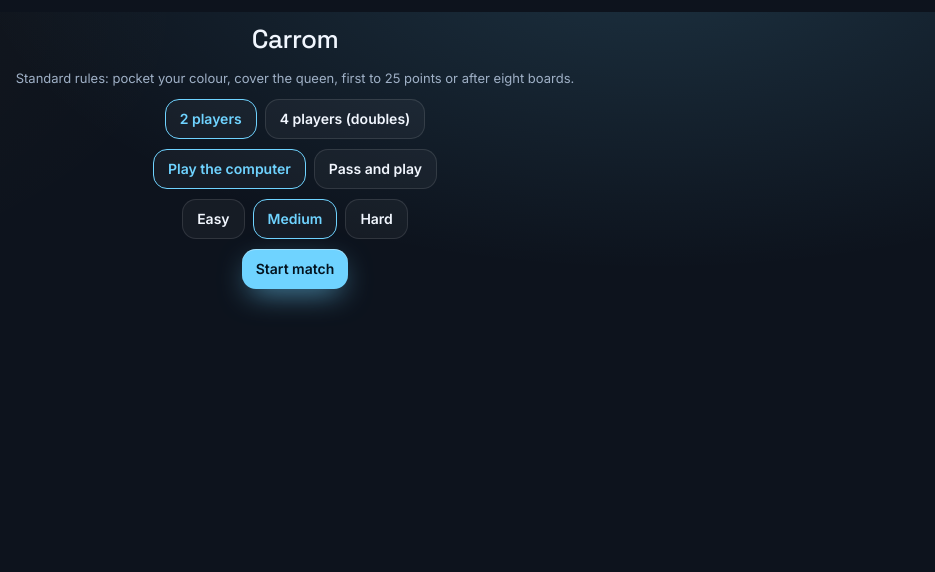
Carrom › passes the turn after a miss and keeps it after an own coin
Step 1. Click the button "Pass and play" → [375, 168], box [314,148,437,188]
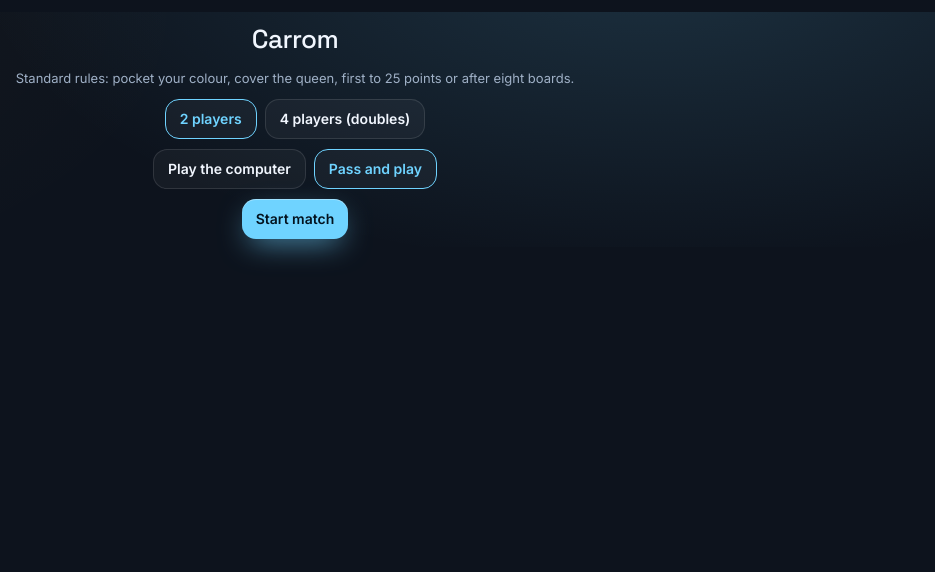
Step 2. Click the button "Start match" → [295, 218], box [242,198,348,238]
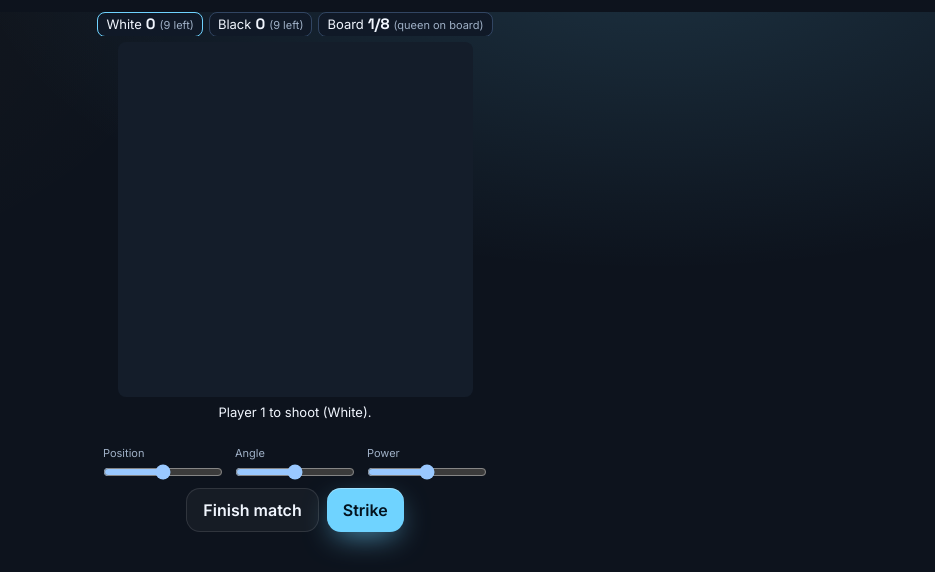
Expected: the message shows "Player 1 to shoot", [218,404,371,420]
Step 3. Click the button "Strike" → [365, 510], box [327,488,404,532]
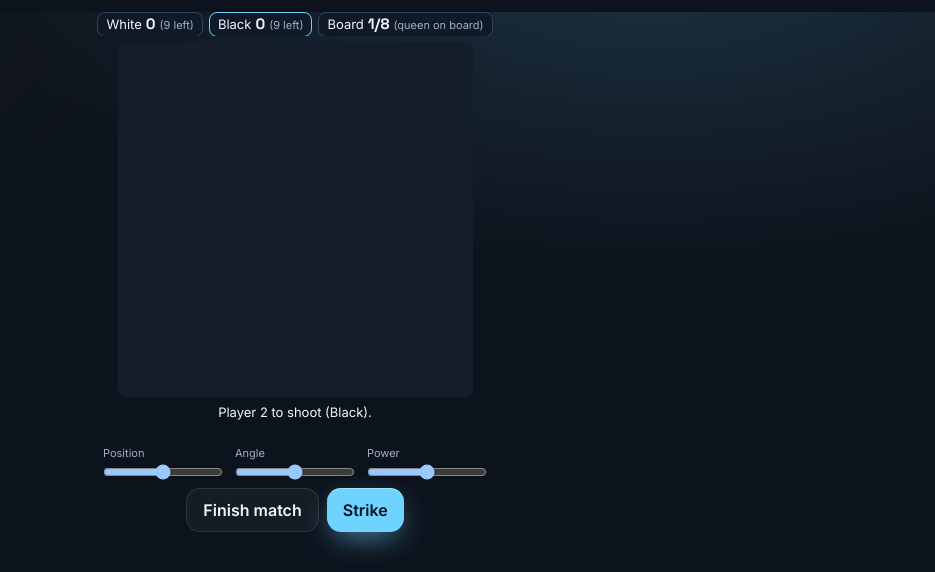
Expected: the message shows "Player 2 to shoot", [218,404,372,420]
Step 4. Click the button "Strike" → [365, 510], box [327,488,404,532]
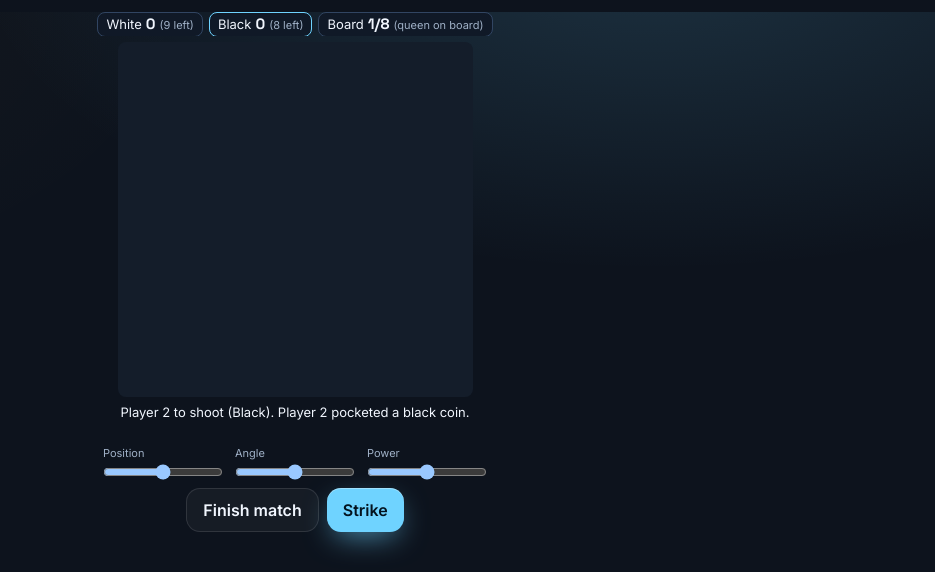
Expected: the message shows "Player 2 to shoot", [120,404,274,420]
Expected: the message shows "pocketed a black coin", [278,404,470,420]
